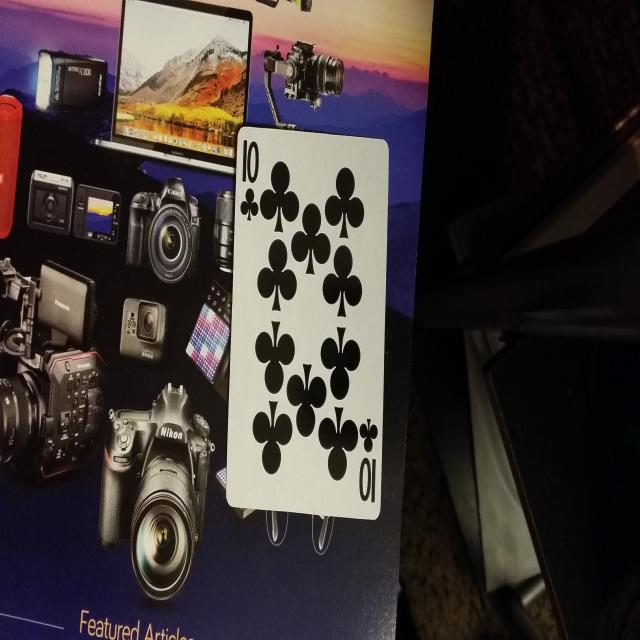10c: (354, 409, 384, 518), (238, 130, 265, 226)
